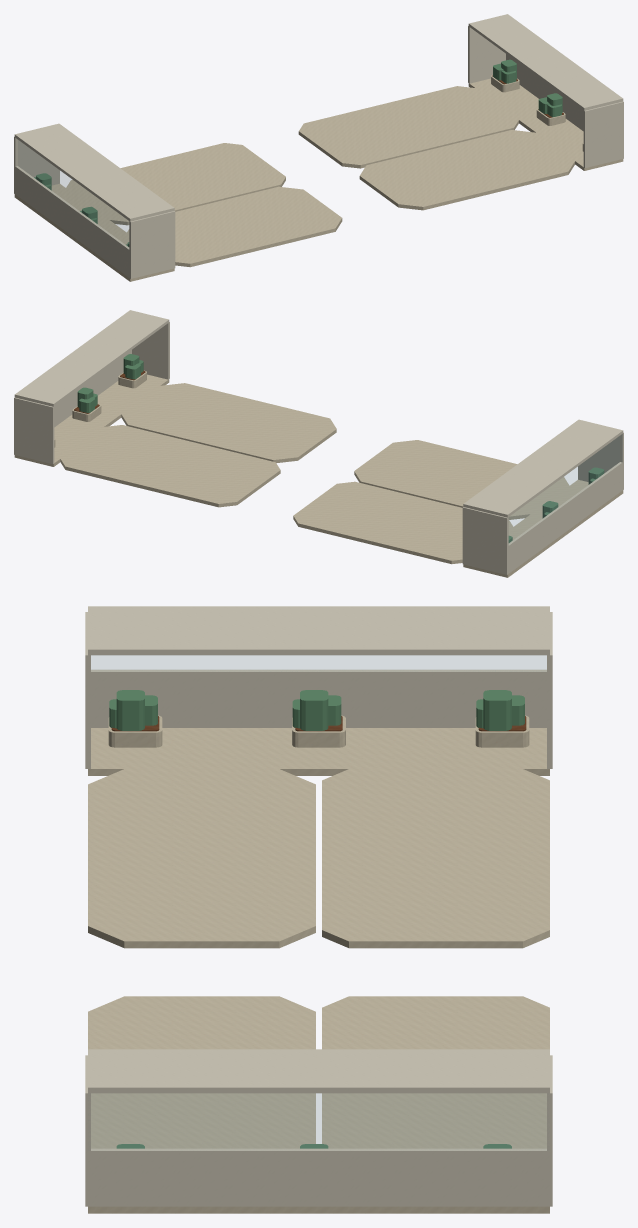
Rendered from D04_PORT_FORWARD_HOMES_FOURTH_RECEIVING_r001.glb.
3 views of the same model, one above another, from view 1: azimuth 30°, elevation 25°; view 2: azimuth 150°, elevation 25°; view 3: azimuth 270°, elevation 25° (orthographic). The views are drawn at different scales.
Parts seen in each view (by area): view 1: D04H922_Floor, D04H898_Floor, D04H910_Floor, D04H886_Floor, D04HC4_west_Roof, D04HC4_east_Roof, D04HC4_west_PrivacyScreen, D04HC4_west_GlassUpper, D04HC4_east_Floor, D04HC4_west_End_1, D04HC4_east_End_1, D04HC4_west_Floor (+3 smaller); view 2: D04H898_Floor, D04H922_Floor, D04H886_Floor, D04H910_Floor, D04HC4_west_Roof, D04HC4_east_Roof, D04HC4_west_PrivacyScreen, D04HC4_west_GlassUpper, D04HC4_east_Floor, D04HC4_west_End_0, D04HC4_east_End_0, D04HC4_west_Floor (+3 smaller); view 3: D04H886_Floor, D04H910_Floor, D04HC4_east_PrivacyScreen, D04HC4_east_GlassUpper, D04H898_Floor, D04H922_Floor, D04HC4_west_Roof, D04HC4_west_PrivacyScreen, D04HC4_east_Roof, D04HC4_west_Floor, D04HC4_west_GlassUpper, D04HC4_east_Floor (+8 smaller).
Part boxes in pixels (<box>): D04H922_Floor: <box>359,130,574,210</box>; D04H898_Floor: <box>298,86,518,168</box>; D04H910_Floor: <box>127,186,342,267</box>; D04H886_Floor: <box>66,143,285,225</box>; D04HC4_west_Roof: <box>14,123,174,221</box>; D04HC4_east_Roof: <box>468,14,623,110</box>; D04HC4_west_PrivacyScreen: <box>14,166,130,277</box>; D04HC4_west_GlassUpper: <box>17,140,128,248</box>; D04HC4_east_Floor: <box>468,78,623,170</box>; D04HC4_west_End_1: <box>129,211,175,278</box>; D04HC4_east_End_1: <box>583,101,623,167</box>; D04HC4_west_Floor: <box>14,183,174,281</box>; D04H898_Floor: <box>60,425,280,507</box>; D04H922_Floor: <box>121,383,336,463</box>; D04H886_Floor: <box>293,481,513,564</box>; D04H910_Floor: <box>354,440,569,519</box>; D04HC4_west_Roof: <box>463,419,623,517</box>; D04HC4_east_Roof: <box>14,310,169,406</box>; D04HC4_west_PrivacyScreen: <box>507,462,623,573</box>; D04HC4_west_GlassUpper: <box>509,436,619,544</box>; D04HC4_east_Floor: <box>14,374,169,466</box>; D04HC4_west_End_0: <box>462,507,508,574</box>; D04HC4_east_End_0: <box>14,397,54,463</box>; D04HC4_west_Floor: <box>463,479,623,577</box>; D04H886_Floor: <box>322,769,549,948</box>; D04H910_Floor: <box>88,769,315,948</box>; D04HC4_east_PrivacyScreen: <box>88,1148,549,1206</box>; D04HC4_east_GlassUpper: <box>91,1093,546,1150</box>; D04H898_Floor: <box>322,996,549,1148</box>; D04H922_Floor: <box>88,996,315,1148</box>; D04HC4_west_Roof: <box>88,606,549,655</box>; D04HC4_west_PrivacyScreen: <box>91,669,546,727</box>; D04HC4_east_Roof: <box>88,1049,549,1093</box>; D04HC4_west_Floor: <box>88,728,549,775</box>; D04HC4_west_GlassUpper: <box>91,655,546,671</box>; D04HC4_east_Floor: <box>88,1206,549,1213</box>.
Size of the model in its own units: 36 by 4.4 by 14.78.
5 materials, 3 textured.
